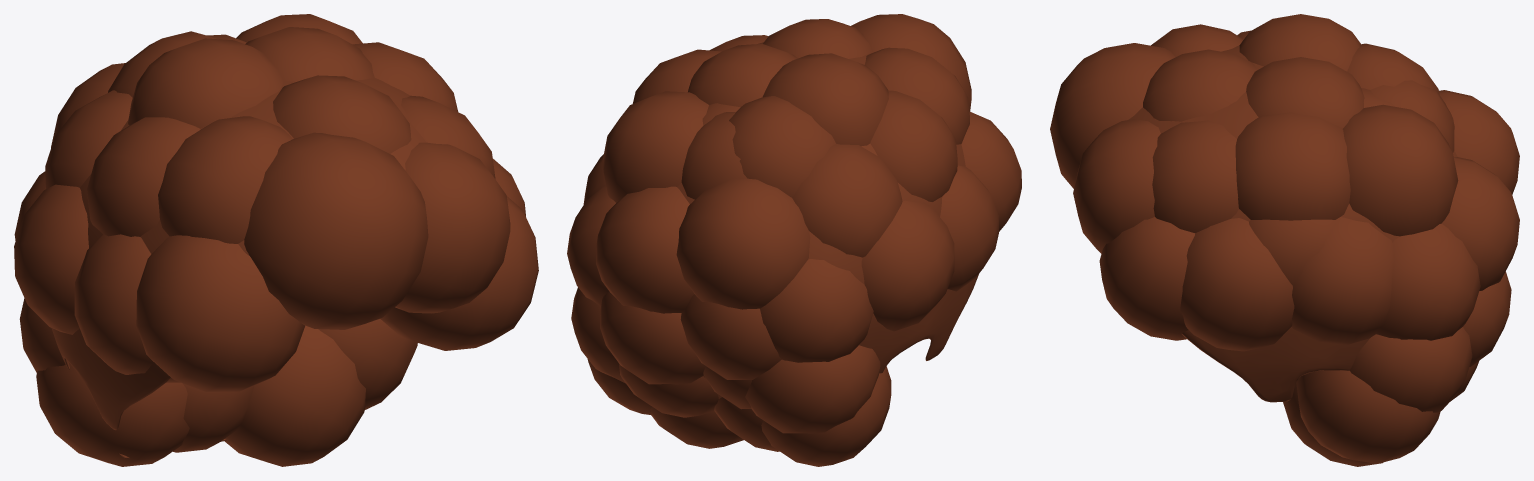
File: hair-5-9e8e3252.glb
3 views of the same model, side by side, from view 1: azimuth 30°, elevation 25°; view 2: azimuth 150°, elevation 25°; view 3: azimuth 270°, elevation 25° (orthographic). The views are drawn at different scales.
Parts seen in each view (by area): view 1: hair_5.001; view 2: hair_5.001; view 3: hair_5.001.
Boxes of the visible parts, x1,y1,x2,y2 form: hair_5.001: (14,14,538,466); hair_5.001: (567,14,1021,466); hair_5.001: (1050,14,1519,466).
Size of the model in its own units: 1.8 by 1.82 by 1.96.
